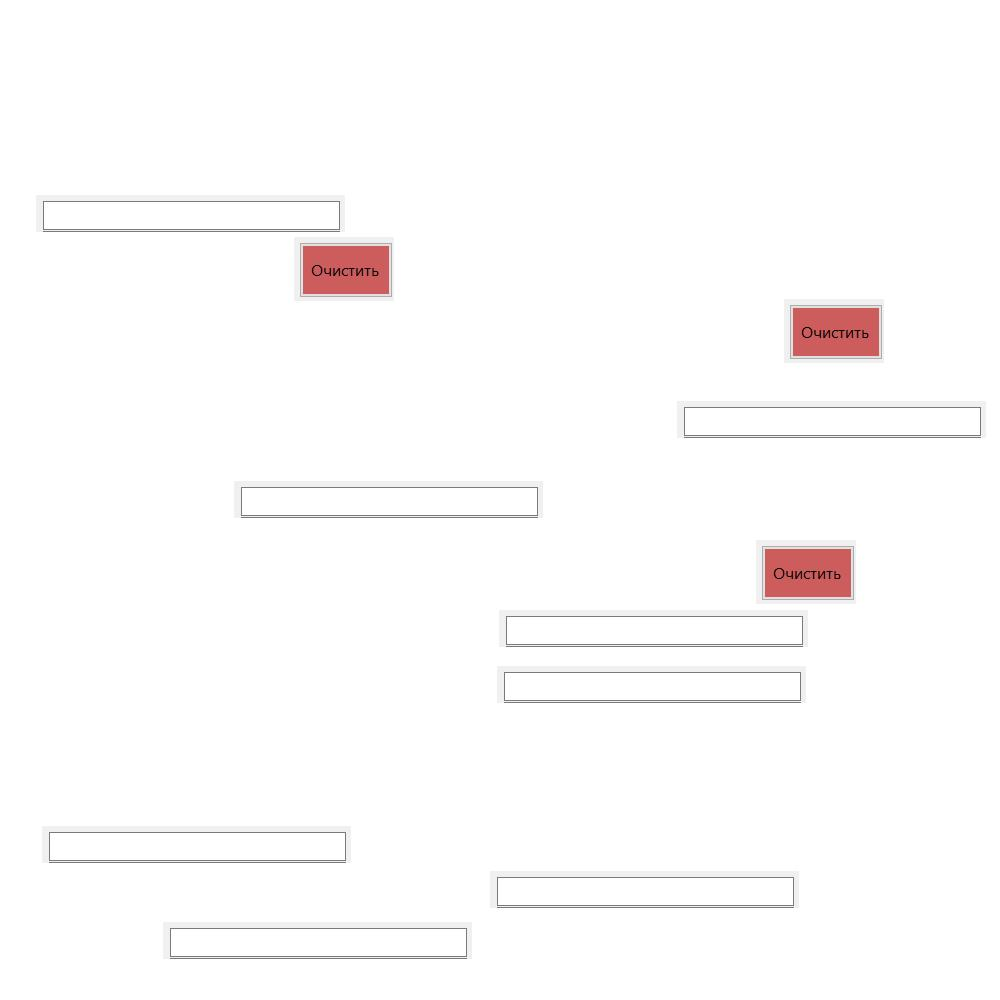Button: (294, 237, 394, 301), (784, 299, 884, 363), (756, 540, 856, 604)
EditText-: (499, 610, 808, 647), (497, 666, 806, 703), (234, 481, 543, 518), (490, 871, 799, 908), (677, 401, 986, 438), (42, 826, 351, 863), (36, 195, 345, 232), (163, 922, 472, 959)
